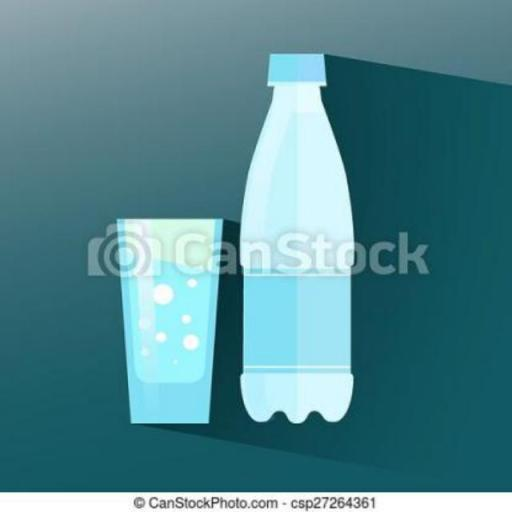Coca: (242, 54, 353, 424)
